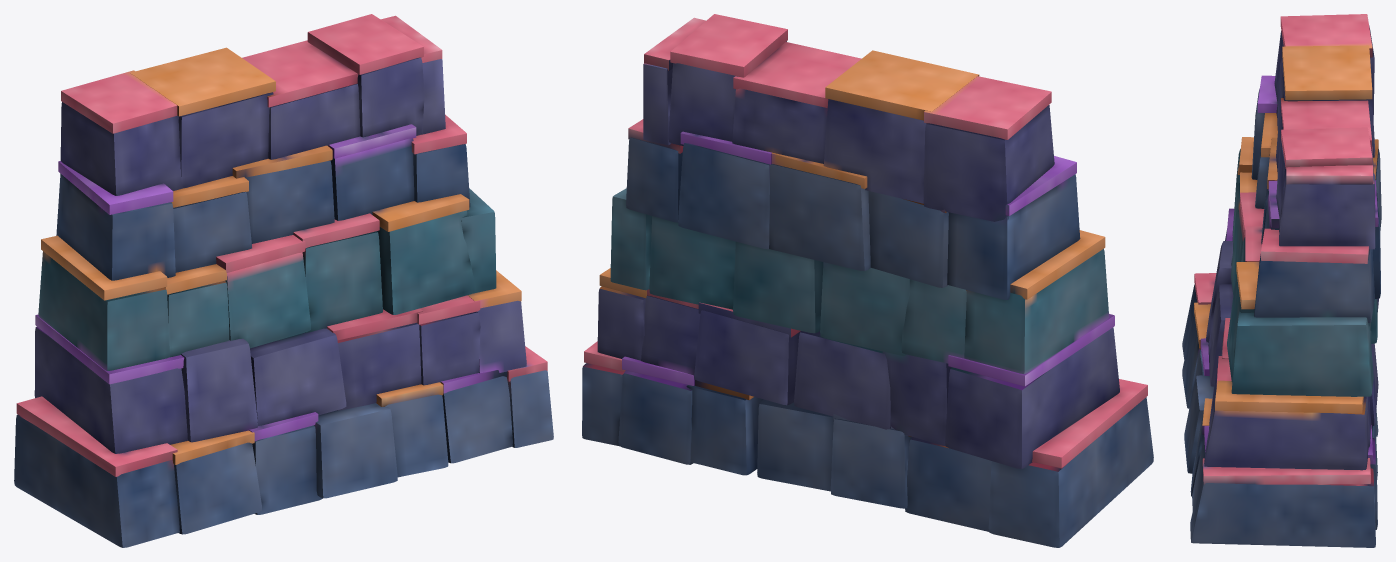
File: Abysses_Recif.fbx
3 renders of one model, left to right at view 1: azimuth 30°, elevation 25°; view 2: azimuth 150°, elevation 25°; view 3: azimuth 270°, elevation 25°, orthographic. The views are drawn at different scales.
Parts seen in each view (by area): view 1: Abysses_Recif; view 2: Abysses_Recif; view 3: Abysses_Recif.
Boxes of the visible parts, box(x1,y1,x2,y2) form: Abysses_Recif: box(14, 14, 553, 547); Abysses_Recif: box(582, 14, 1153, 547); Abysses_Recif: box(1182, 14, 1381, 547).
Bounding box in the file's own units: 3608 × 2962 × 1503.
1 material, 1 textured.
